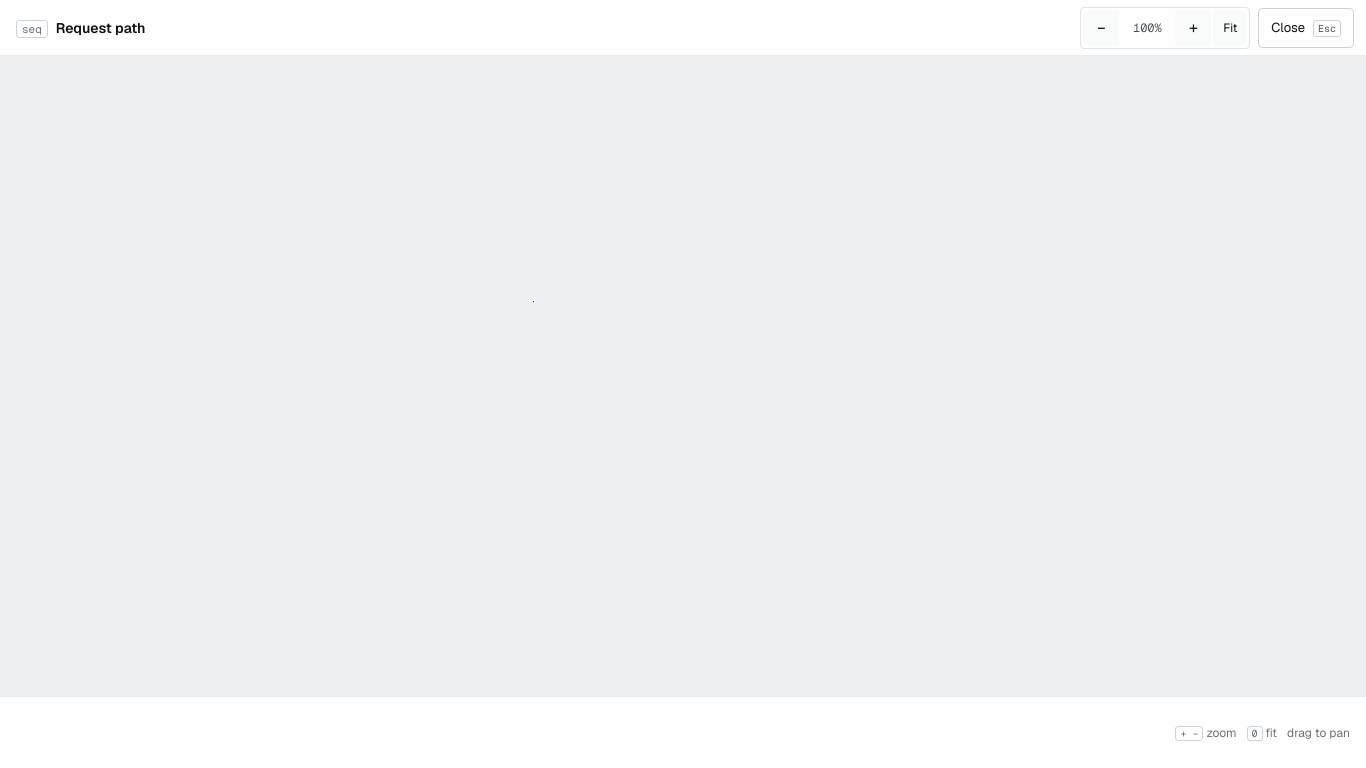
Test case: ViewerOverlay › shows the kind tag, the title and the zoom level in percent (B-Overlays:148-150)
The width and height of the screenshot is (1366, 768).
Expected: the text "seq" is shown, [16, 20, 48, 38]
Expected: the text "Request path" is shown, [56, 18, 145, 36]
Step 1. Click the button named "Zoom in" → (1193, 28), box [1175, 10, 1211, 46]
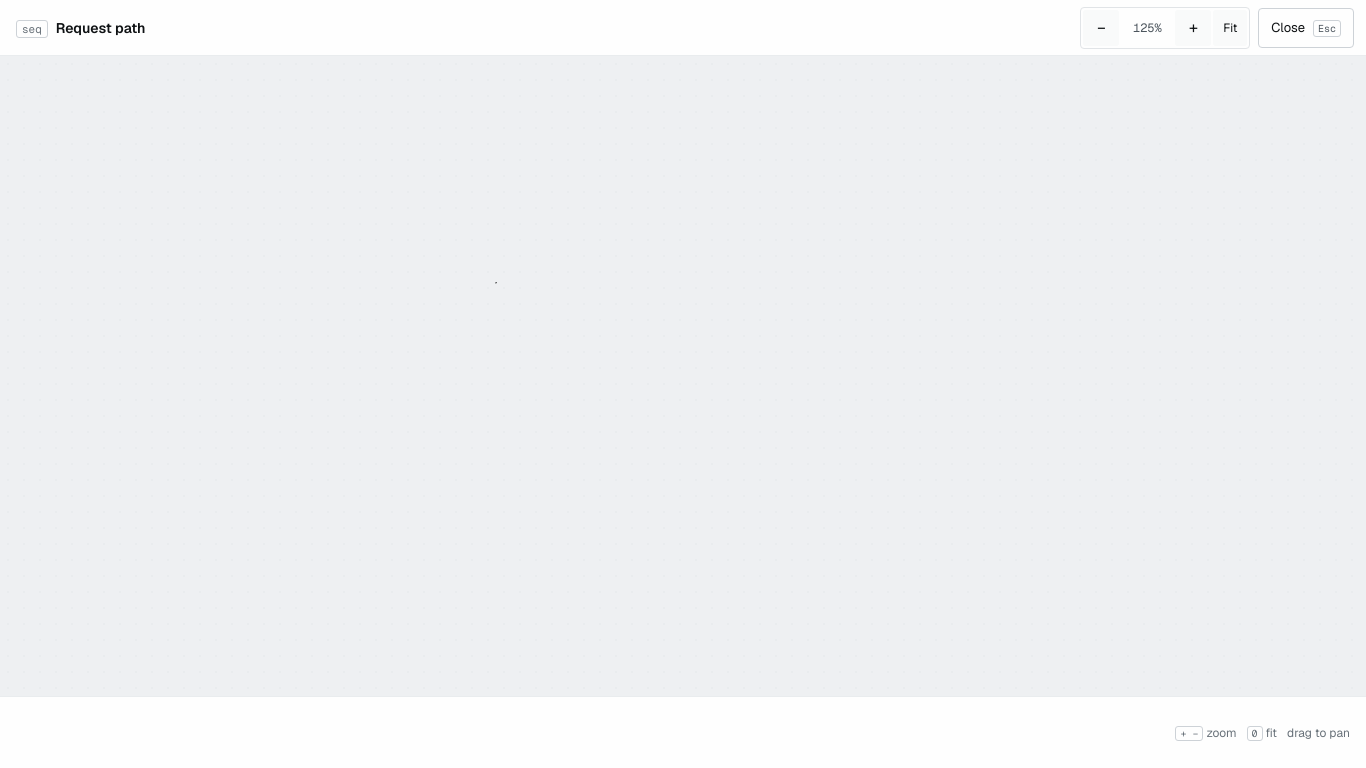
Result: the element named "Zoom" shows "125%" at [1080, 7, 1250, 49]
